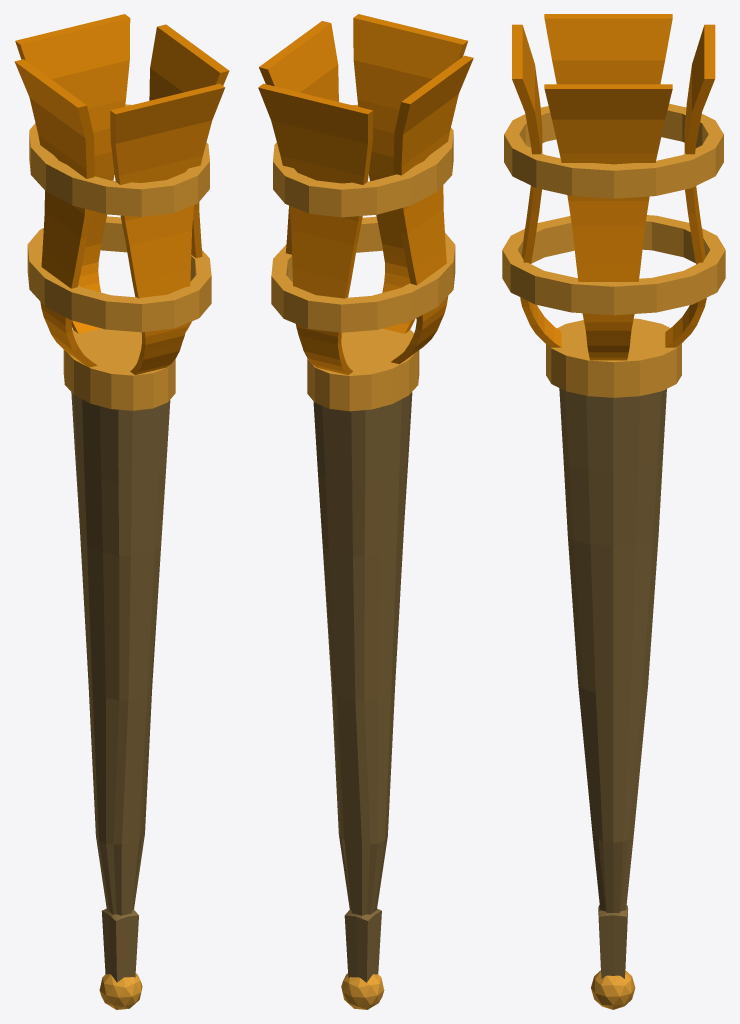
The model's file is antorcha.fbx.
The picture shows the model from 3 angles, left to right: view 1: azimuth 30°, elevation 25°; view 2: azimuth 150°, elevation 25°; view 3: azimuth 270°, elevation 25°; orthographic projection.
Visible parts, largest first — view 1: antorcha; view 2: antorcha; view 3: antorcha.
Part boxes in pixels (x1,y1,x2,y2): antorcha: (14, 14, 229, 1009); antorcha: (258, 14, 473, 1009); antorcha: (502, 14, 725, 1009).
Bounding box in the file's own units: 20.63 × 123 × 25.99.
